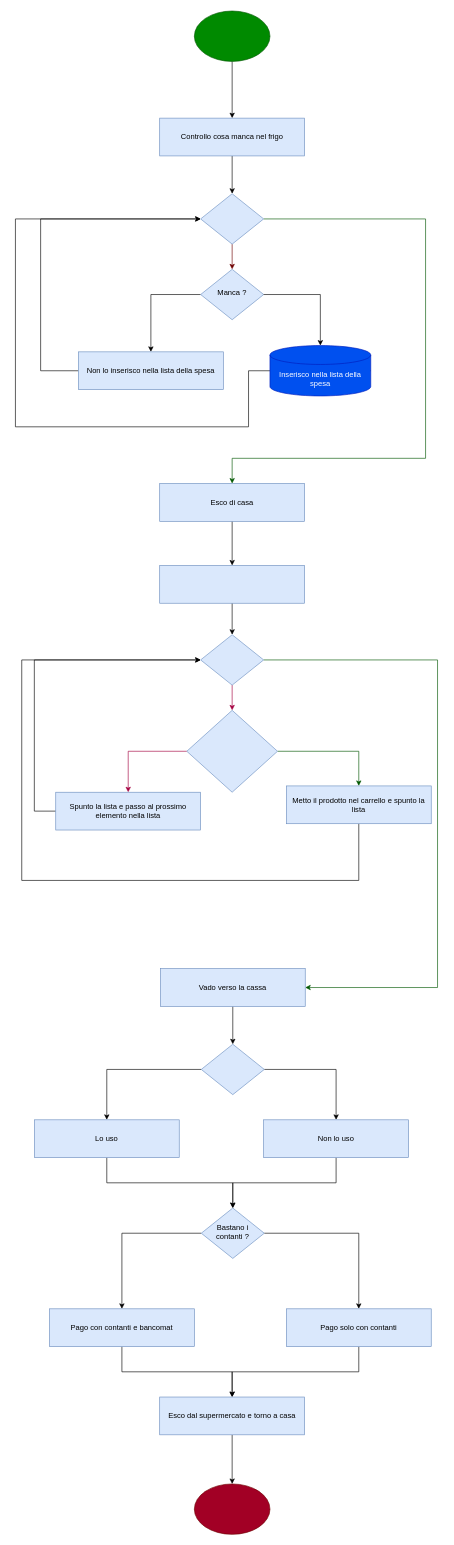
This 454x1545 diagram has some shape labels left out. Here are the shapes that lost their labels. From the top down, the centre of each, then its label:
the point at 232,35: Inizio
the point at 232,218: Controllo cosa manca
the point at 232,584: Arrivo al supermercato
the point at 232,659: La lista è finita?
the point at 232,751: Il prodotto è disponibile AND ancora da prendere?
the point at 232,1069: Il coupon è scaduto ?
the point at 232,1508: Fine
